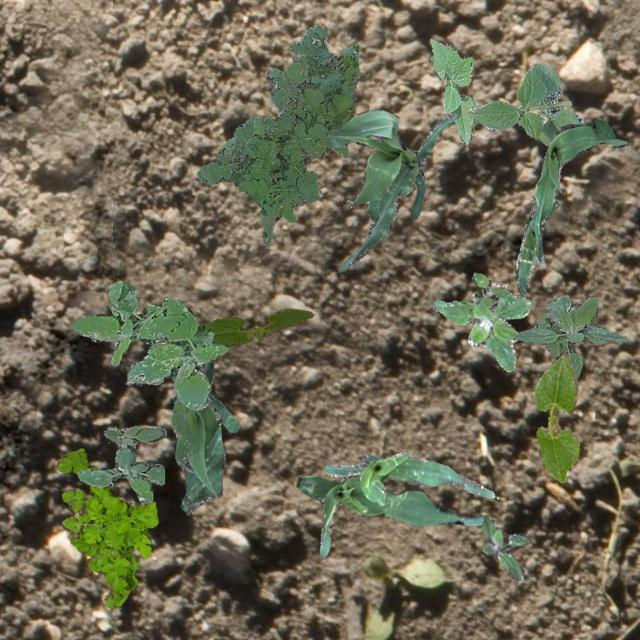crop: (326, 108, 456, 270), (514, 118, 626, 294), (296, 474, 482, 558), (170, 358, 238, 514), (466, 62, 584, 144), (512, 294, 626, 378), (322, 450, 493, 504), (532, 354, 578, 482), (428, 38, 476, 144), (198, 308, 312, 346)
weed: (196, 25, 360, 246), (70, 280, 226, 410), (54, 448, 156, 608), (430, 272, 530, 371), (76, 424, 166, 504), (481, 514, 528, 578)
